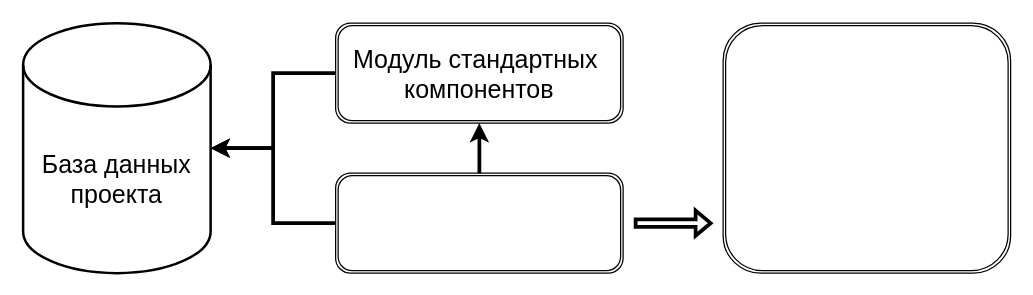
The diagram is 1033 pixels wide and 295 high, and some of its shapes have lost their labels. The centre of each missing label's shape, as x and y in pixels:
Модуль для 3D моделирования: point (478, 222)
Этажный план трубопроводов Изометрический чертеж Ведомость материалов ....: point (866, 147)
